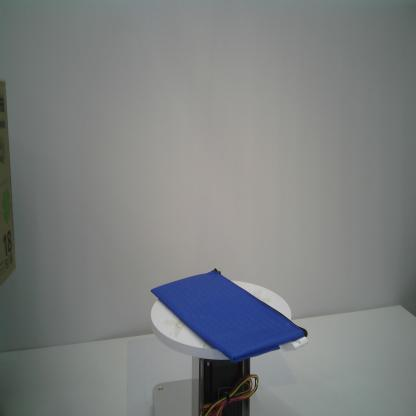Stationery: (150, 268, 309, 364)
